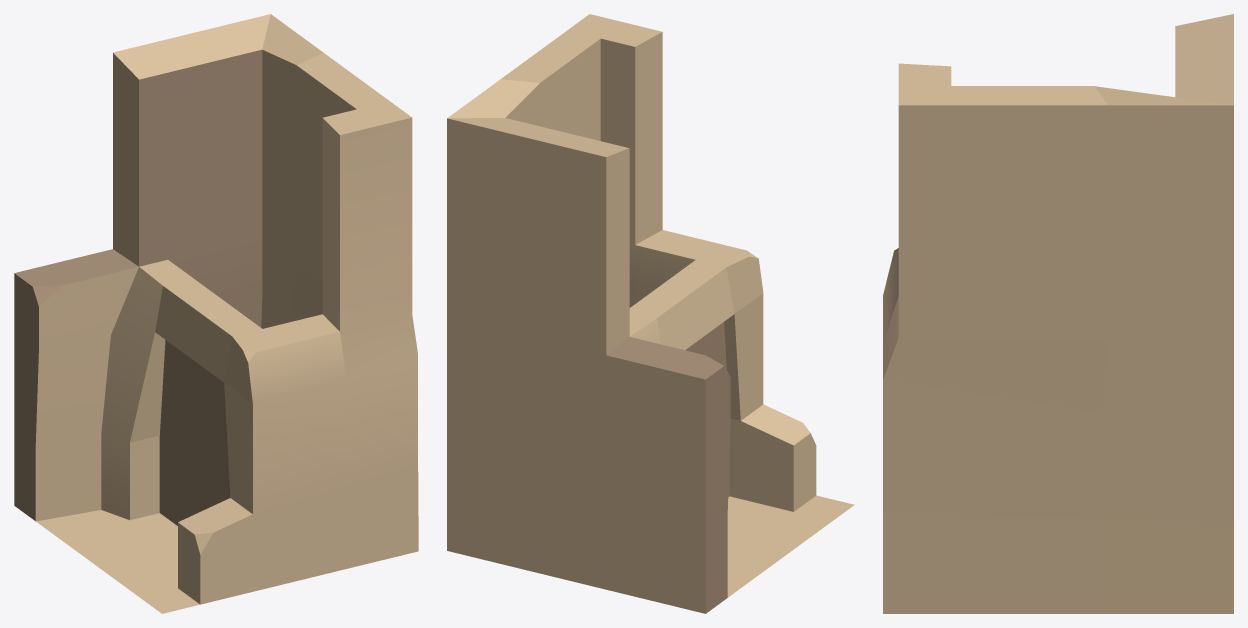
The model's file is CornerRevolvingDoor.fbx.
3 views of the same model, side by side, from view 1: azimuth 30°, elevation 25°; view 2: azimuth 150°, elevation 25°; view 3: azimuth 270°, elevation 25° (orthographic). The views are drawn at different scales.
Parts seen in each view (by area): view 1: CornerRevolvingDoor, CornerRevolvingDoorDoor; view 2: CornerRevolvingDoor, CornerRevolvingDoorDoor; view 3: CornerRevolvingDoor.
Boxes of the visible parts, x1,y1,x2,y2 form: CornerRevolvingDoor: (14,14,418,613); CornerRevolvingDoorDoor: (159,340,230,525); CornerRevolvingDoor: (447,14,854,613); CornerRevolvingDoorDoor: (685,322,729,496); CornerRevolvingDoor: (883,14,1233,613).
Bounding box in the file's own units: 5.01 × 8 × 5.
